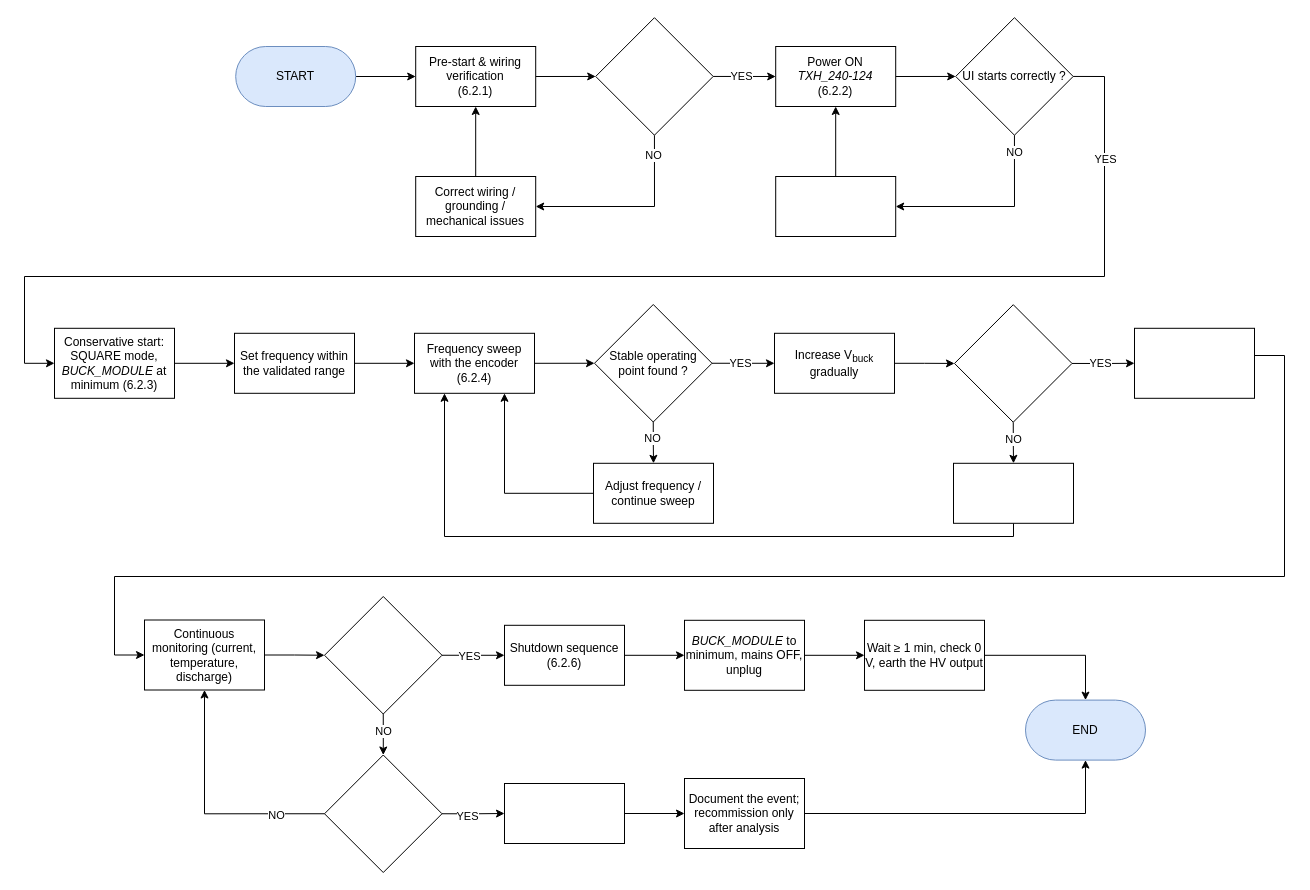
This 1310x890 diagram has some shape labels left out. Each missing label, with the centre of its shape:
Abnormal noise, odor, arcing or heat ?: the point at 383,813
Emergency power cut-off: the point at 564,813
Power OFF, recheck I2C wiring / connectors: the point at 835,206
Reduce V buck / return to a safe level: the point at 1013,492
Set timer (1–240 min) and start treatment (6.2.5): the point at 1194,362
Stable, no overheating ?: the point at 1013,363
Timer expired or operator stop ?: the point at 383,655
Wiring / grounding OK ?: the point at 654,76
